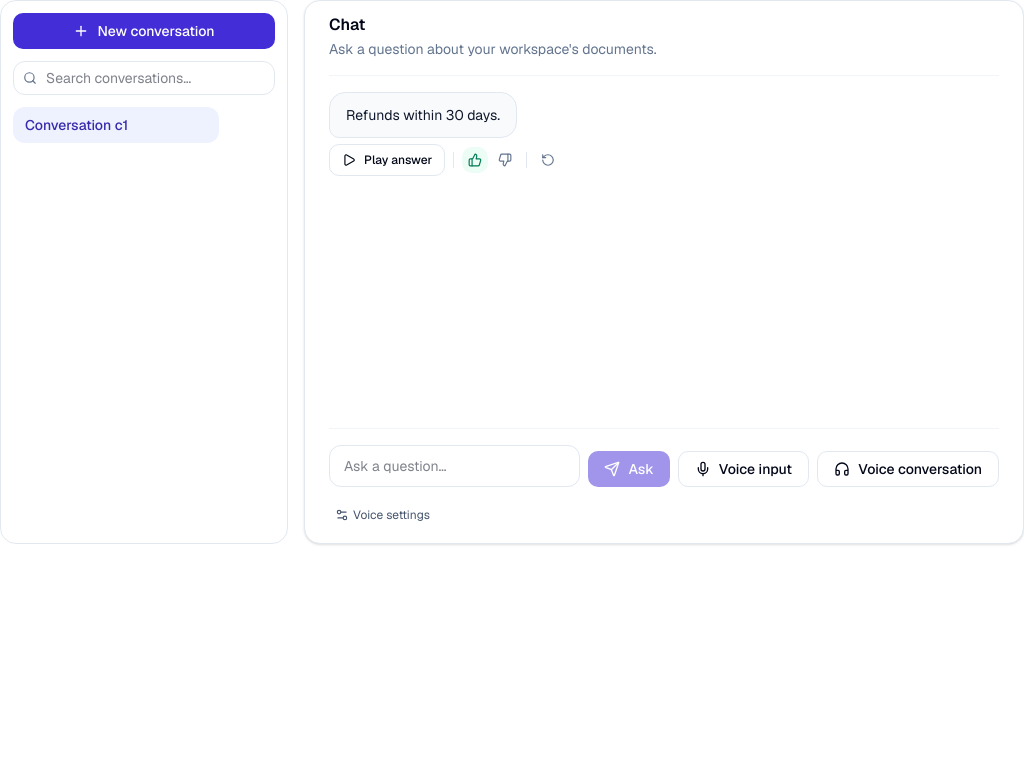
it: ChatPage › regenerates an assistant message's answer
Check: the text "Refunds within 30 days." is shown, box x1=346 y1=103 x2=500 y2=127
Click the button named "regenerate response": coordinates (548, 160) x1=535 y1=147 x2=561 y2=173
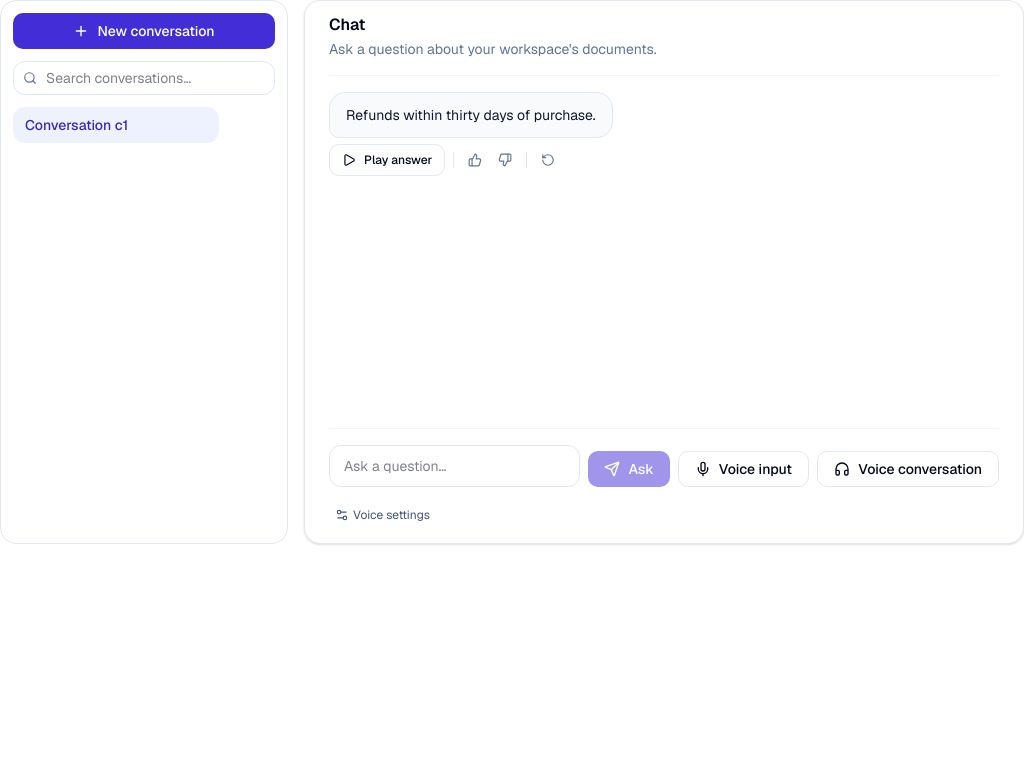
Check: the text "Refunds within thirty days of purchase." is shown, box x1=346 y1=103 x2=596 y2=127
